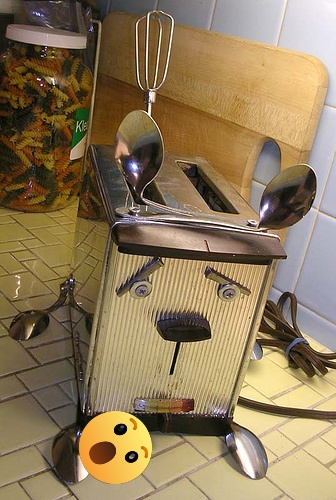wow: (79, 411, 152, 484)
